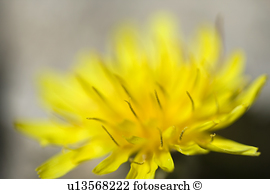dandelion: (26, 33, 262, 178)
